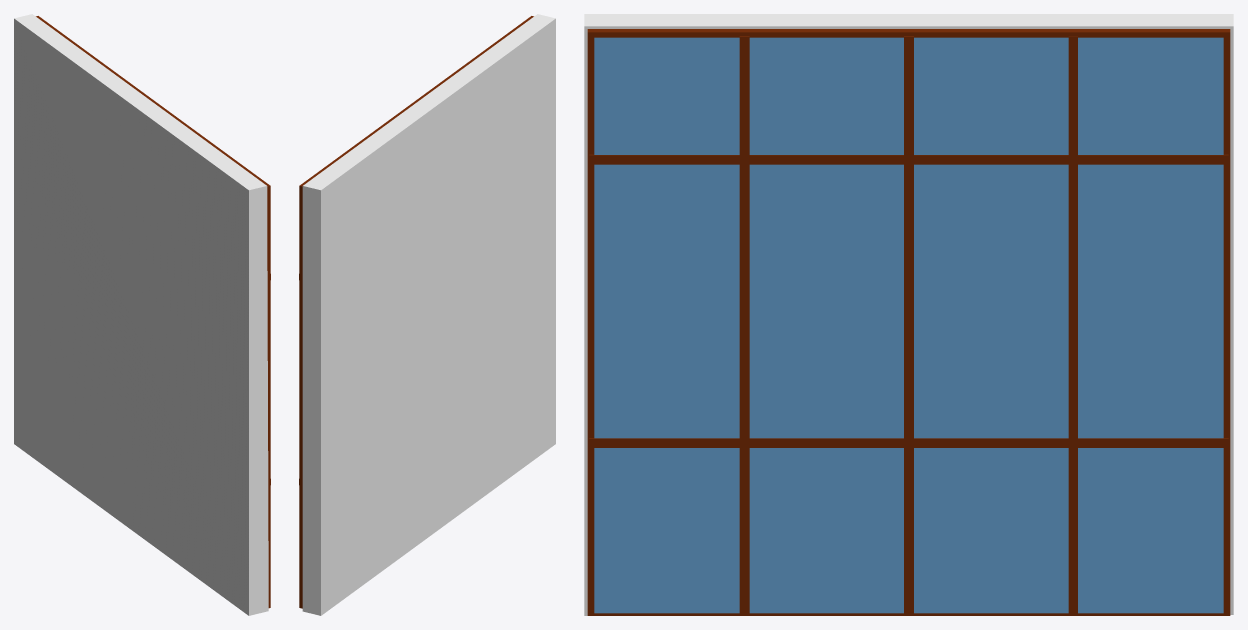
File: window5.fbx
3 views of the same model, side by side, from view 1: azimuth 30°, elevation 25°; view 2: azimuth 150°, elevation 25°; view 3: azimuth 270°, elevation 25° (orthographic). The views are drawn at different scales.
Parts seen in each view (by area): view 1: Cube.010, Cube.001; view 2: Cube.010, Cube.001; view 3: Cube, Cube.001, Cube.010, Cube.003, Cube.005, Cube.006, Cube.004, Cube.002.
Boxes of the visible parts, <box> form: Cube.010: <box>14,14,268,615</box>; Cube.001: <box>36,16,270,608</box>; Cube.010: <box>302,14,555,615</box>; Cube.001: <box>299,16,533,608</box>; Cube: <box>594,37,1223,613</box>; Cube.001: <box>587,29,1230,615</box>; Cube.010: <box>584,14,1233,615</box>; Cube.003: <box>739,36,749,615</box>; Cube.005: <box>589,154,1228,164</box>; Cube.006: <box>589,438,1228,447</box>; Cube.004: <box>904,36,913,615</box>; Cube.002: <box>1068,36,1077,615</box>.
Bounding box in the file's own units: 11.72 × 200 × 200.
